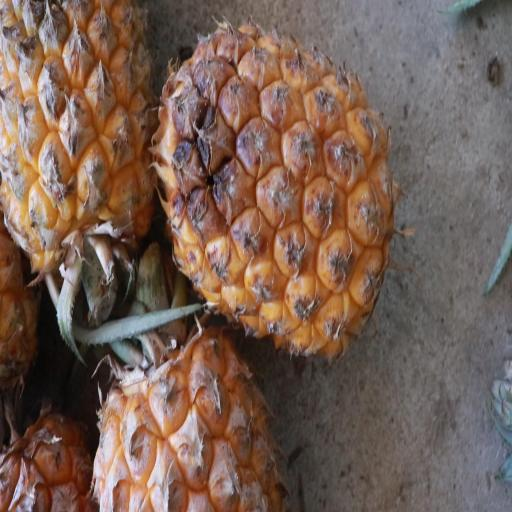Pineapple - v8 v1: (148, 15, 402, 370), (0, 0, 157, 303), (91, 298, 286, 512)
